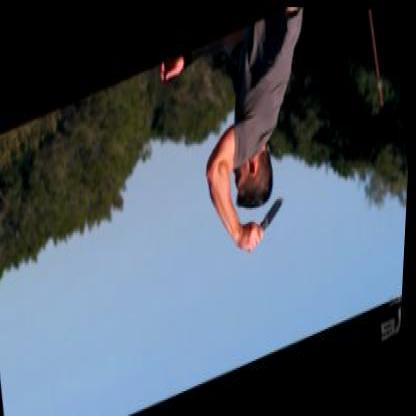knife: (236, 188, 296, 260)
